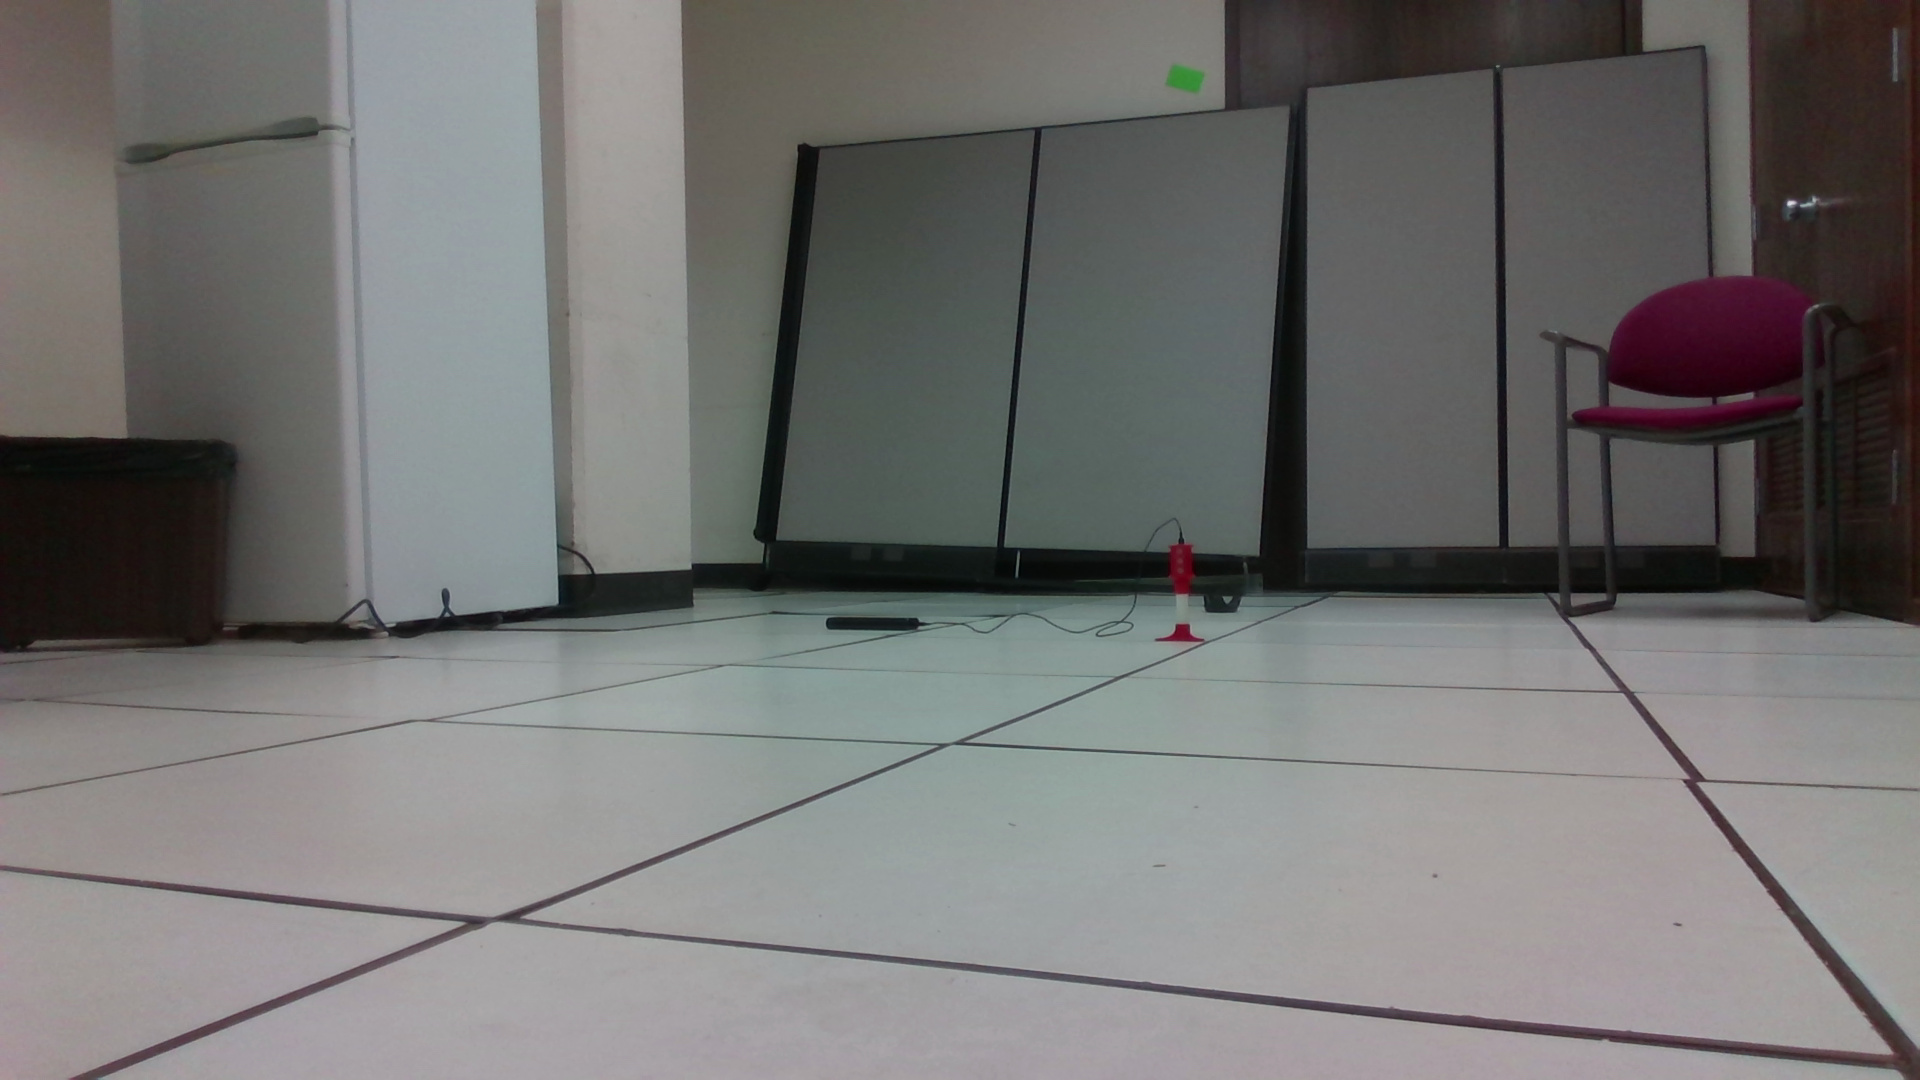stoplight: (1166, 542, 1197, 597)
